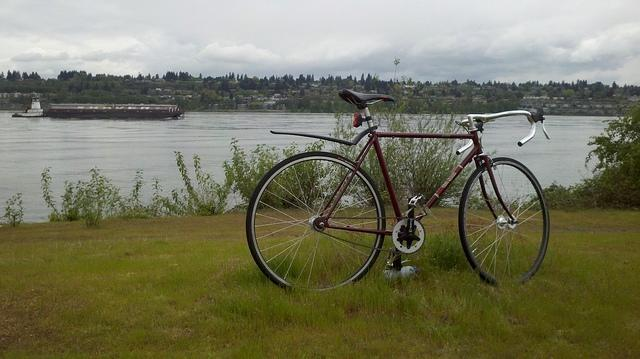bicycle: (242, 88, 550, 288)
